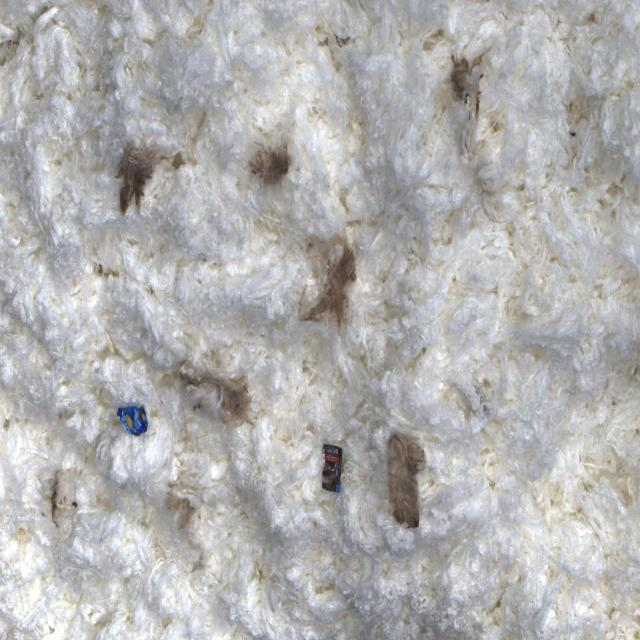dust: (113, 124, 193, 225), (376, 414, 433, 541), (289, 235, 361, 330), (175, 357, 253, 431), (449, 46, 502, 149), (109, 373, 162, 472), (237, 135, 296, 196), (166, 483, 201, 565), (312, 439, 352, 494), (52, 471, 62, 530)
